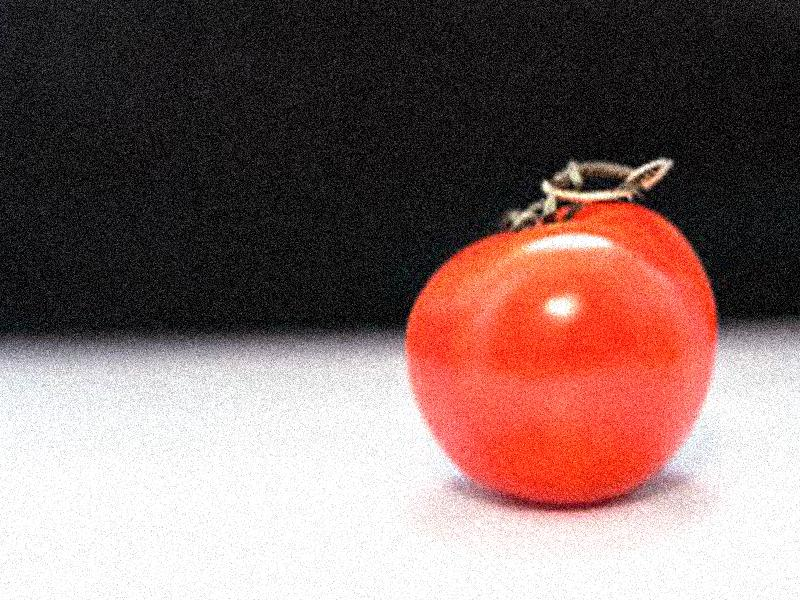Tomato: (403, 200, 718, 505)
